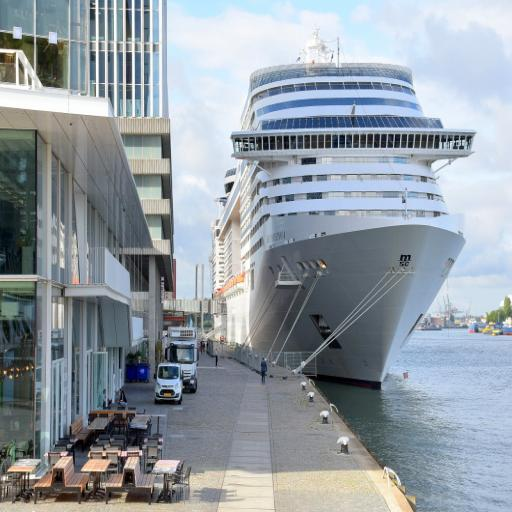cruises: (209, 27, 480, 400)
